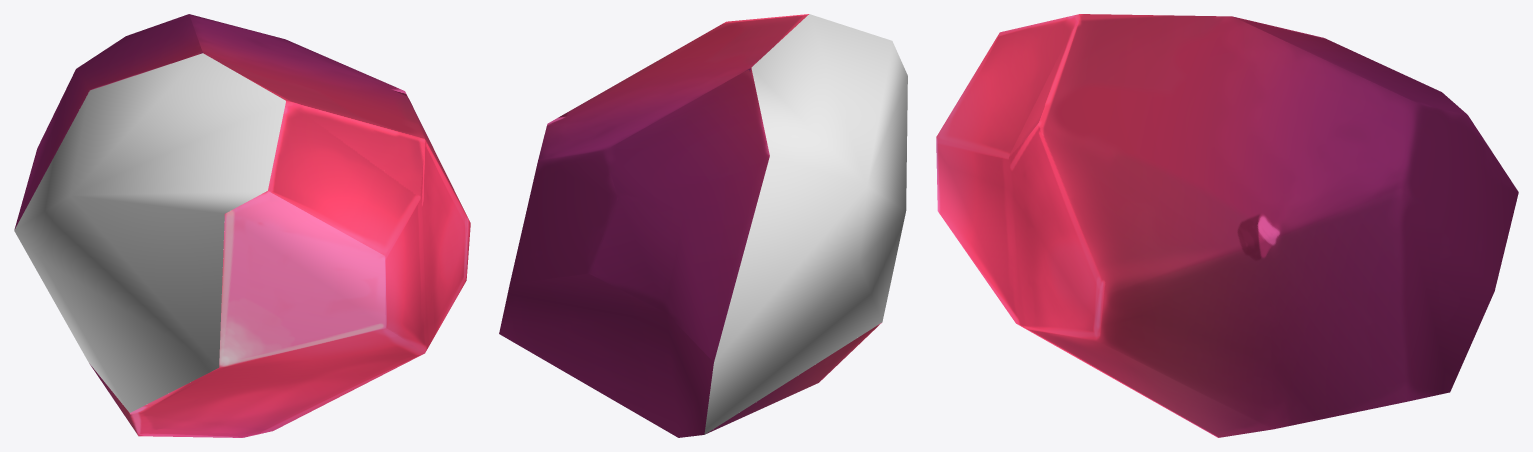
The model's file is stones3.glb.
The picture shows the model from 3 angles, left to right: view 1: azimuth 30°, elevation 25°; view 2: azimuth 150°, elevation 25°; view 3: azimuth 270°, elevation 25°; orthographic projection. The views are drawn at different scales.
Parts seen in each view (by area): view 1: Object_2; view 2: Object_2; view 3: Object_2.
Part boxes in pixels (bbox=[...]): Object_2: bbox=[14, 14, 470, 437]; Object_2: bbox=[499, 14, 907, 437]; Object_2: bbox=[936, 14, 1518, 437].
Size of the model in its own units: 1.44 by 1.5 by 1.96.
2 materials, 1 textured.
